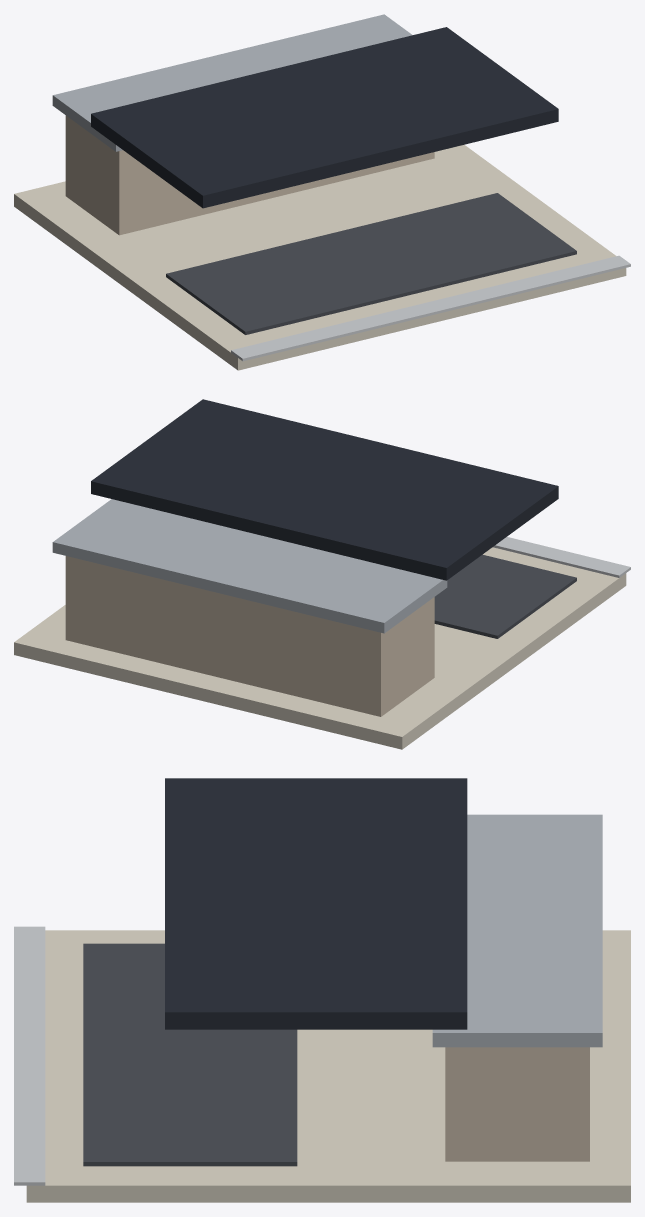
3 views of the same model, one above another, from view 1: azimuth 30°, elevation 25°; view 2: azimuth 150°, elevation 25°; view 3: azimuth 270°, elevation 25° (orthographic). The views are drawn at different scales.
Parts seen in each view (by area): view 1: b31_v2_lod2; view 2: b31_v2_lod2; view 3: b31_v2_lod2.
Boxes of the visible parts, <box> form: b31_v2_lod2: <box>14,14,630,370</box>; b31_v2_lod2: <box>14,399,630,749</box>; b31_v2_lod2: <box>14,778,630,1202</box>.
Size of the model in its own units: 0.96 by 0.315 by 0.98.
